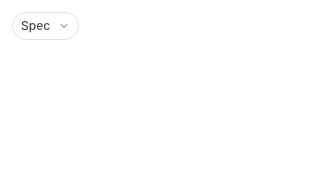
Test: Select › marks the current choice and shows disabled options at reduced opacity
Click the button with aria-label "Type" at (46, 26), box [12,12,79,40]
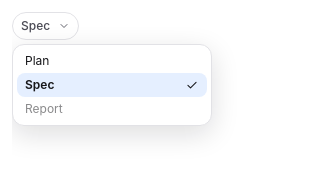
Expected: the icon below "Plan" is shown, [185,78,199,92]
